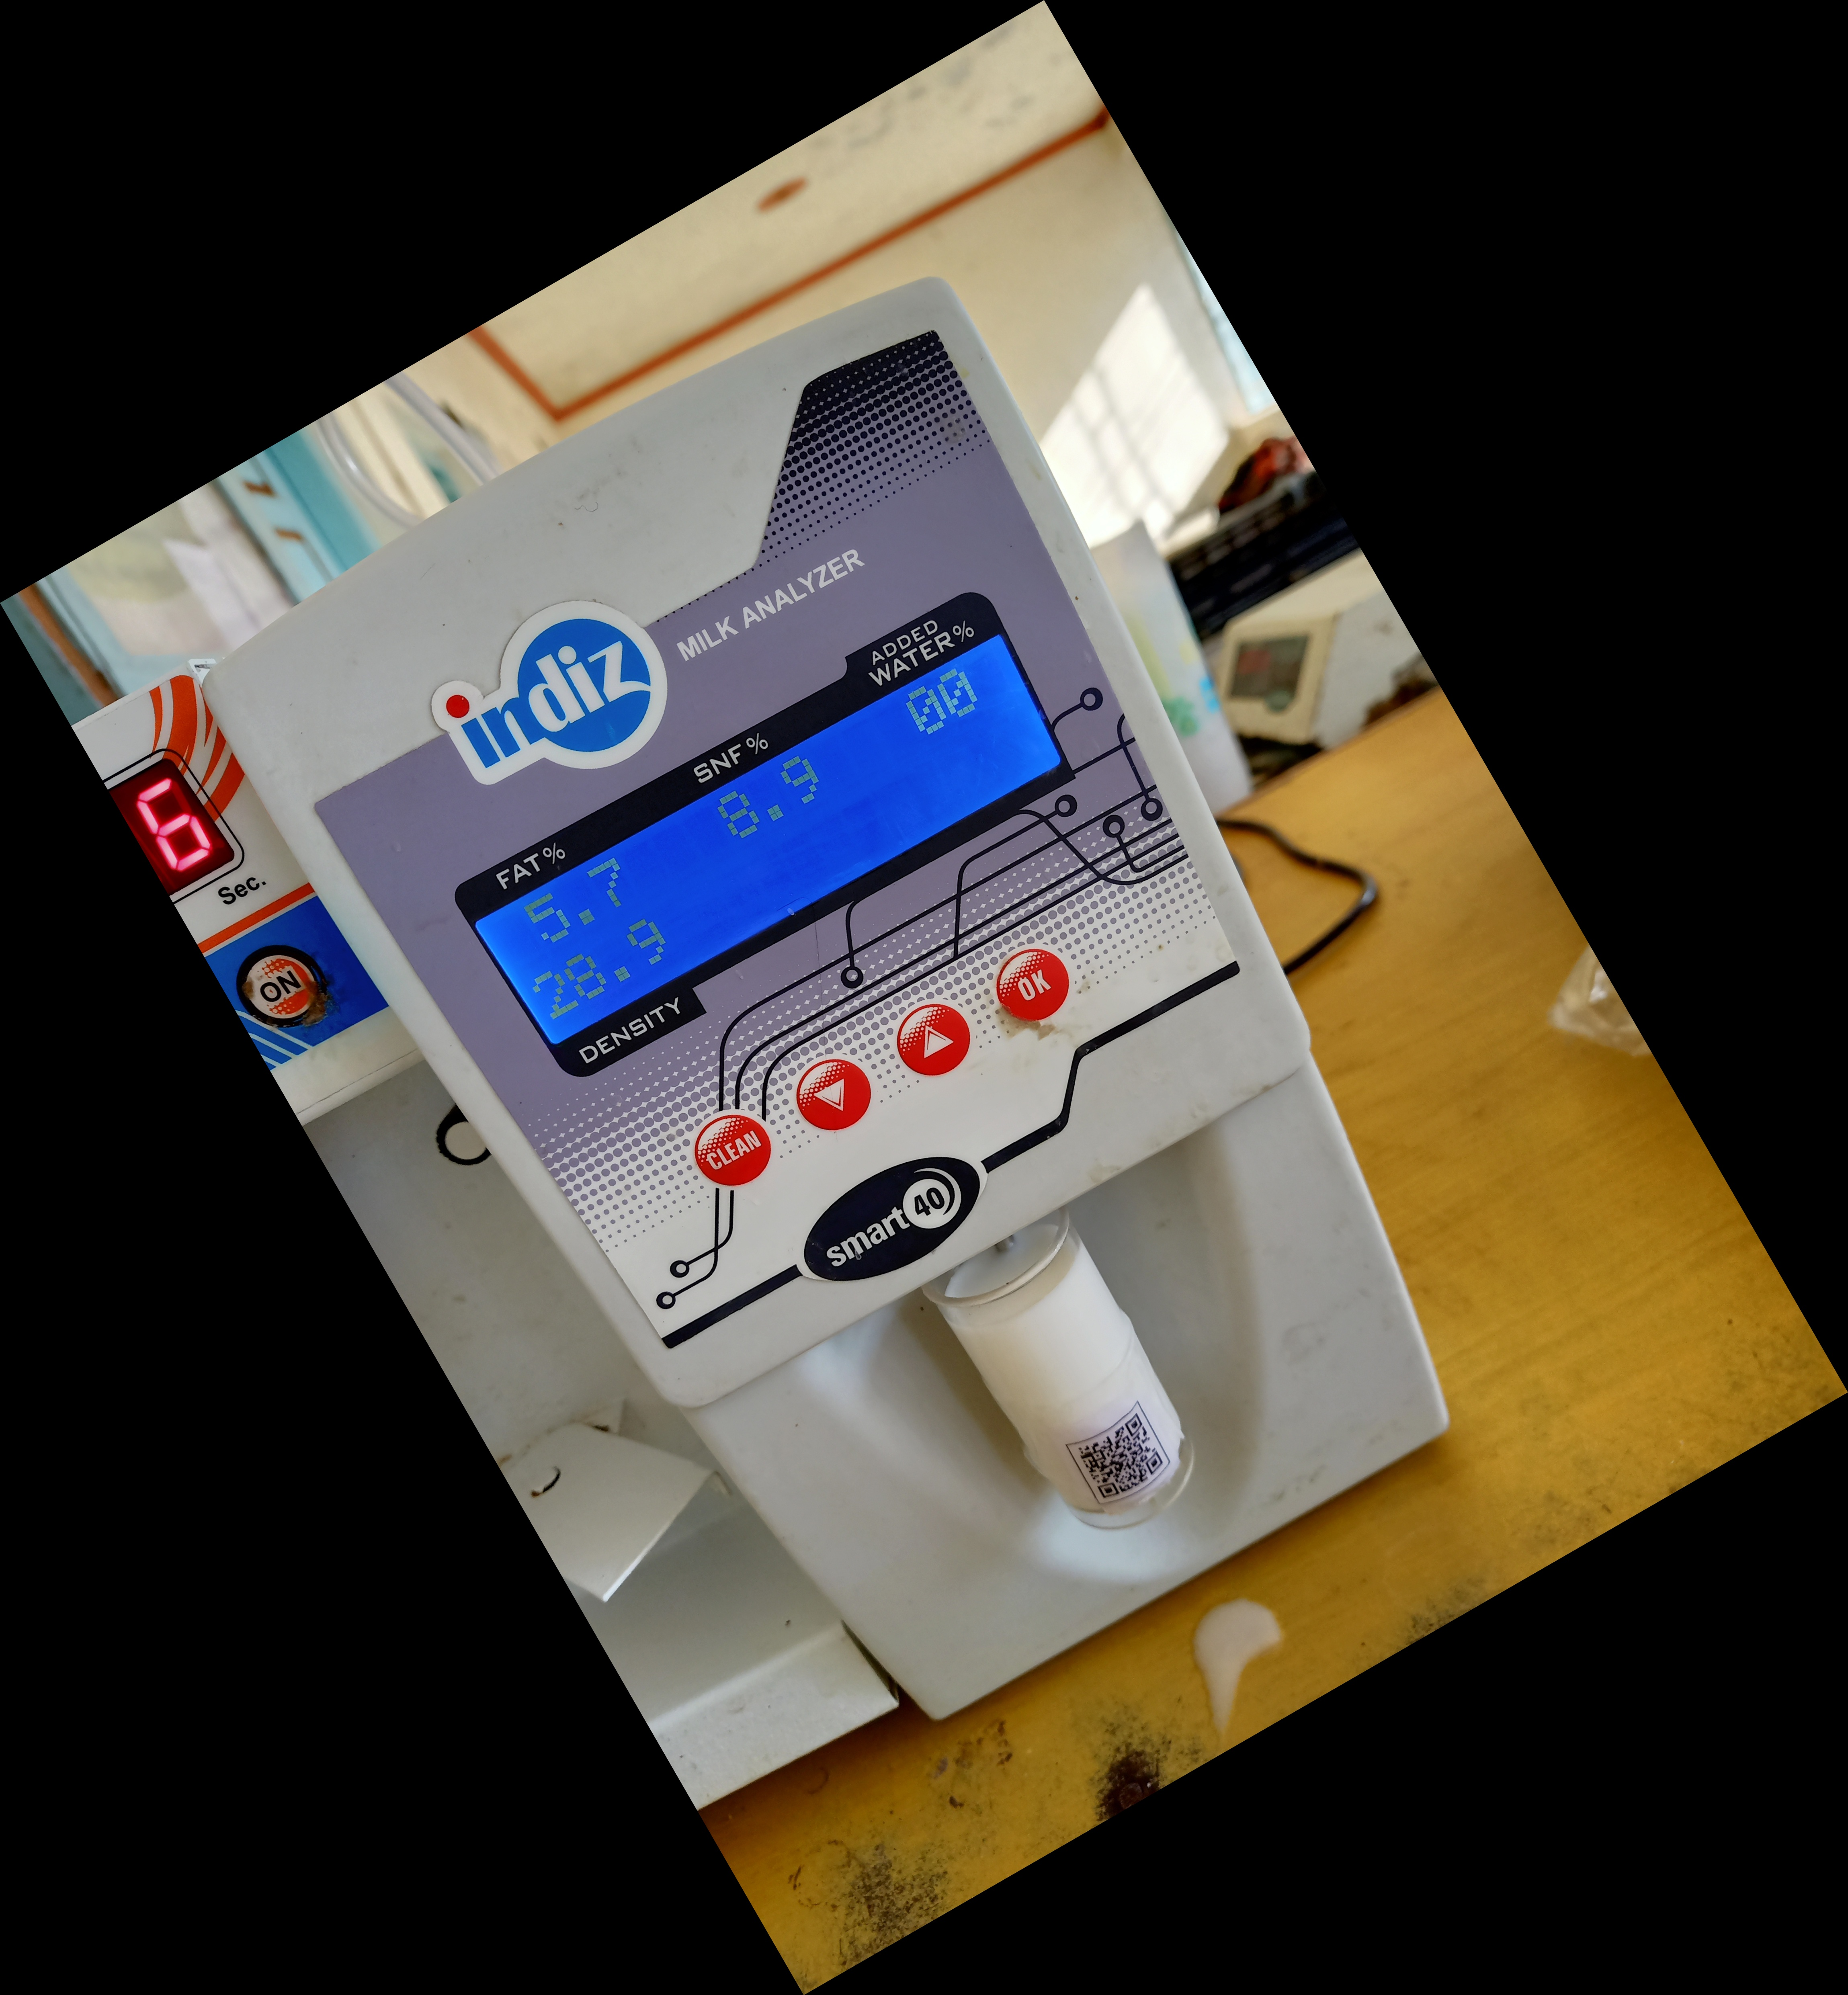lcd: (447, 546, 1095, 1100)
qr: (1059, 1394, 1187, 1529)
